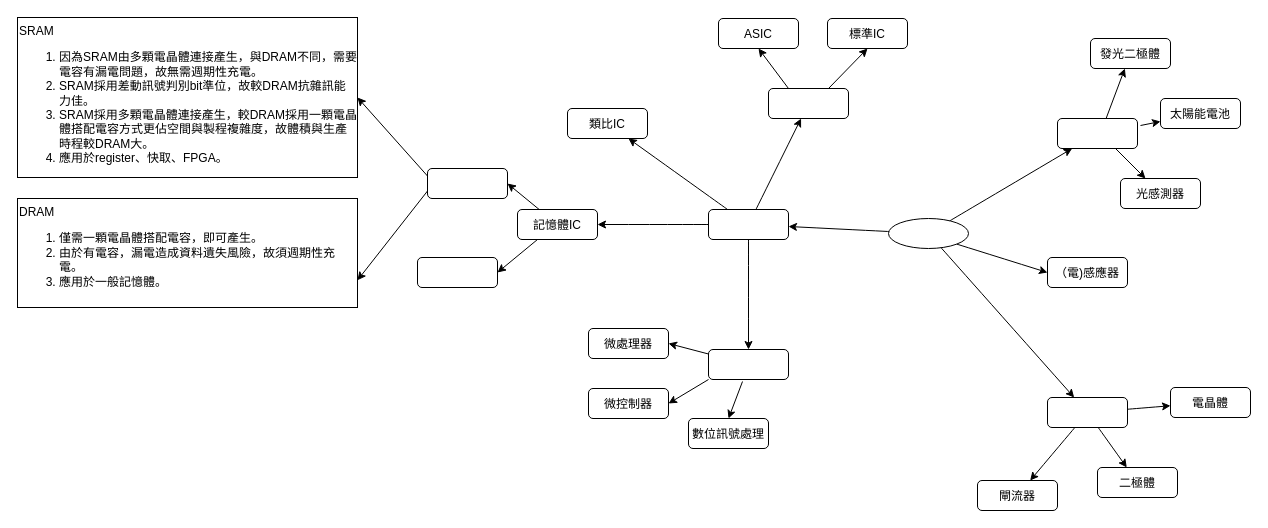
The diagram is 1268 pixels wide and 528 high, and some of its shapes have lost their labels. The shapes that lost their labels are listed below. From the top down, each one's centre as x and y in pixels, then its label:
the point at 808,103: 邏輯IC
the point at 1097,133: 光電元件
the point at 467,183: 揮發性
the point at 748,224: 積體電路
the point at 928,233: 半導體
the point at 457,272: 非揮發性
the point at 748,364: 微元件
the point at 1087,412: 分離式元件
